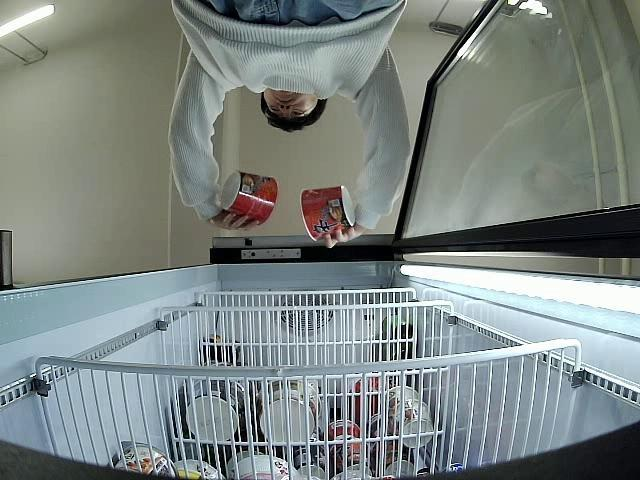01_ShinRamen_L: (218, 170, 278, 230), (299, 186, 356, 243)
